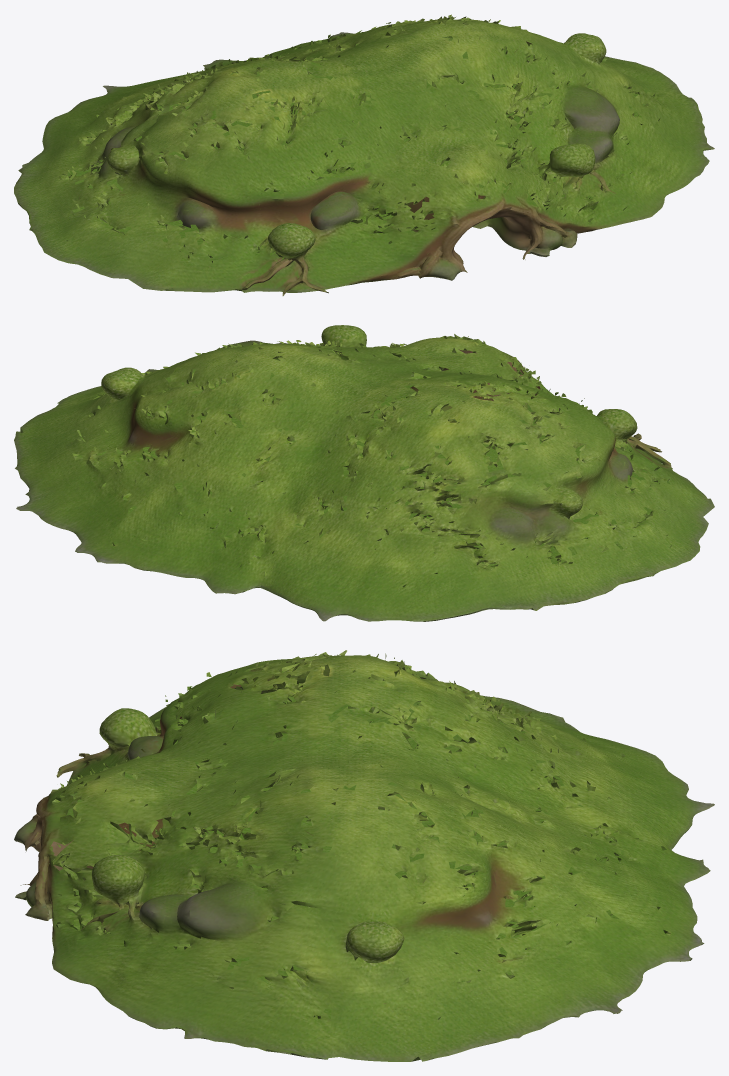
File: burrow_hill_mound.glb
3 renders of one model, top to bottom at view 1: azimuth 30°, elevation 25°; view 2: azimuth 150°, elevation 25°; view 3: azimuth 270°, elevation 25°, orthographic. The views are drawn at different scales.
Parts seen in each view (by area): view 1: Mesh_0; view 2: Mesh_0; view 3: Mesh_0.
Part boxes in pixels (x1,y1,x2,y2): Mesh_0: [14, 14, 714, 295]; Mesh_0: [14, 325, 714, 621]; Mesh_0: [14, 650, 714, 1061].
Bounding box in the file's own units: 130 × 22 × 100.
Materials: 1 (1 with a texture image).
